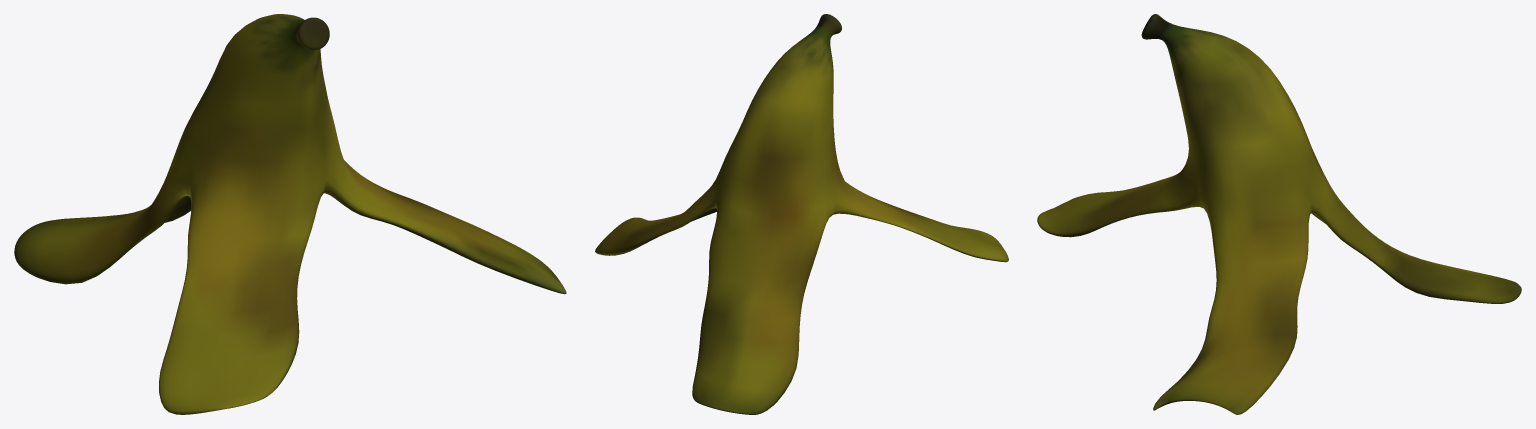
The model's file is banane.fbx.
3 views of the same model, side by side, from view 1: azimuth 30°, elevation 25°; view 2: azimuth 150°, elevation 25°; view 3: azimuth 270°, elevation 25° (orthographic). The views are drawn at different scales.
Visible parts, largest first — view 1: Cylinder; view 2: Cylinder; view 3: Cylinder.
Part boxes in pixels (box(x1,y1,x2,y2)): Cylinder: box(14, 14, 566, 414); Cylinder: box(595, 14, 1008, 414); Cylinder: box(1037, 14, 1521, 414).
Bounding box in the file's own units: 586 × 449 × 634.
